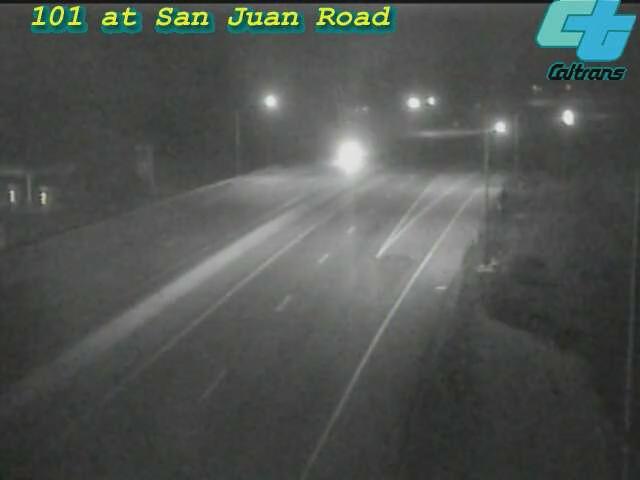vehicle: (327, 130, 377, 180), (473, 103, 523, 153), (539, 94, 589, 144)
